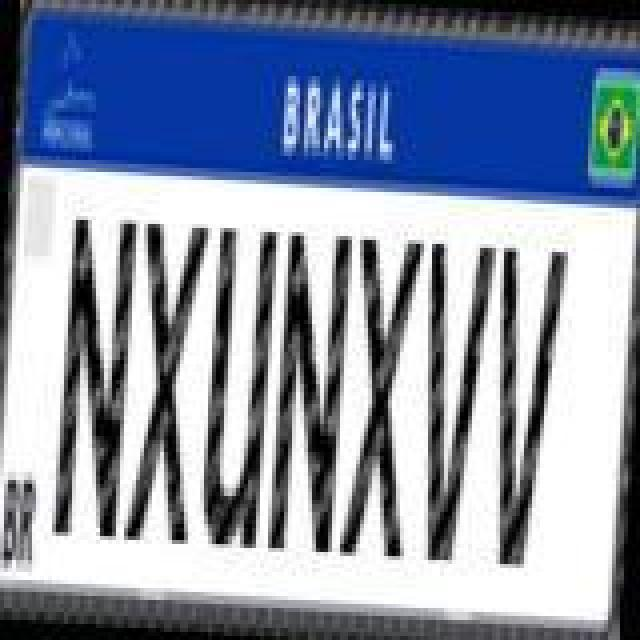N: (50, 208, 142, 544), (266, 226, 358, 558)
U: (198, 218, 282, 550)
V: (410, 234, 502, 566), (482, 242, 574, 574)
X: (122, 214, 214, 546), (340, 234, 428, 566)
